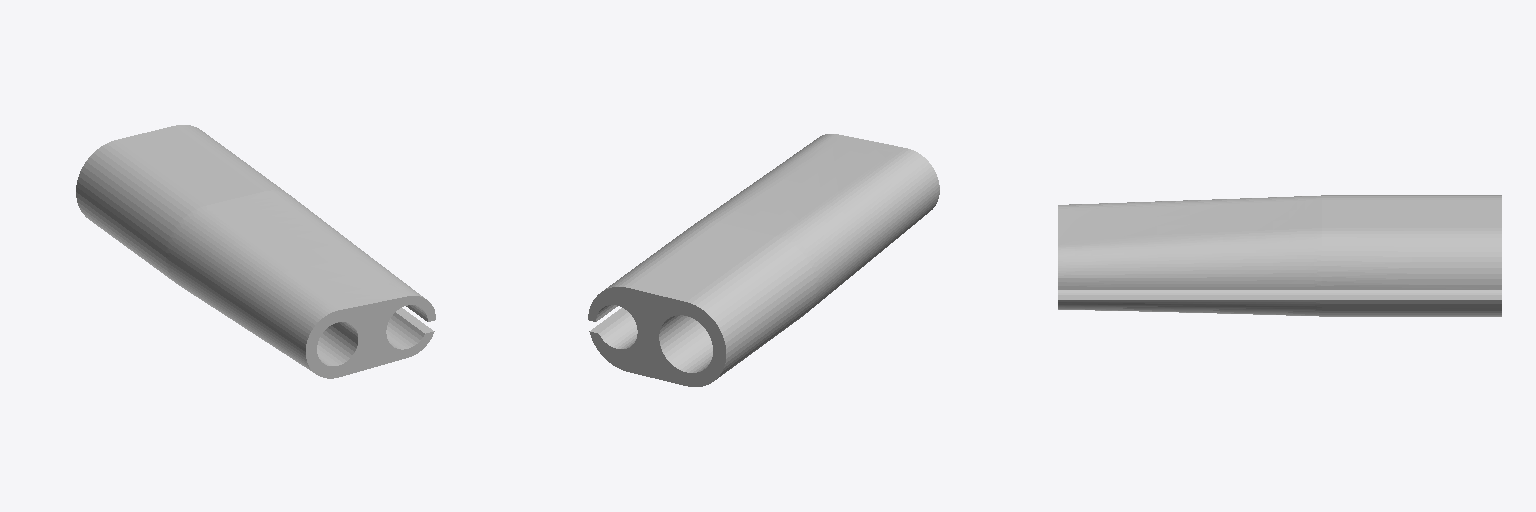
File: [TPU] Adapter 5mm to 4mm.obj
The picture shows the model from 3 angles: view 1: azimuth 30°, elevation 25°; view 2: azimuth 150°, elevation 25°; view 3: azimuth 270°, elevation 25°; orthographic projection.
Bounding box in the file's own units: 13.35 × 7.76 × 37.